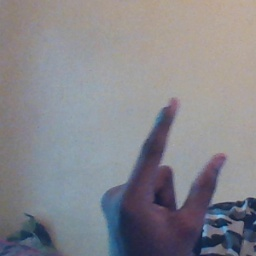U: (97, 96, 238, 255)
